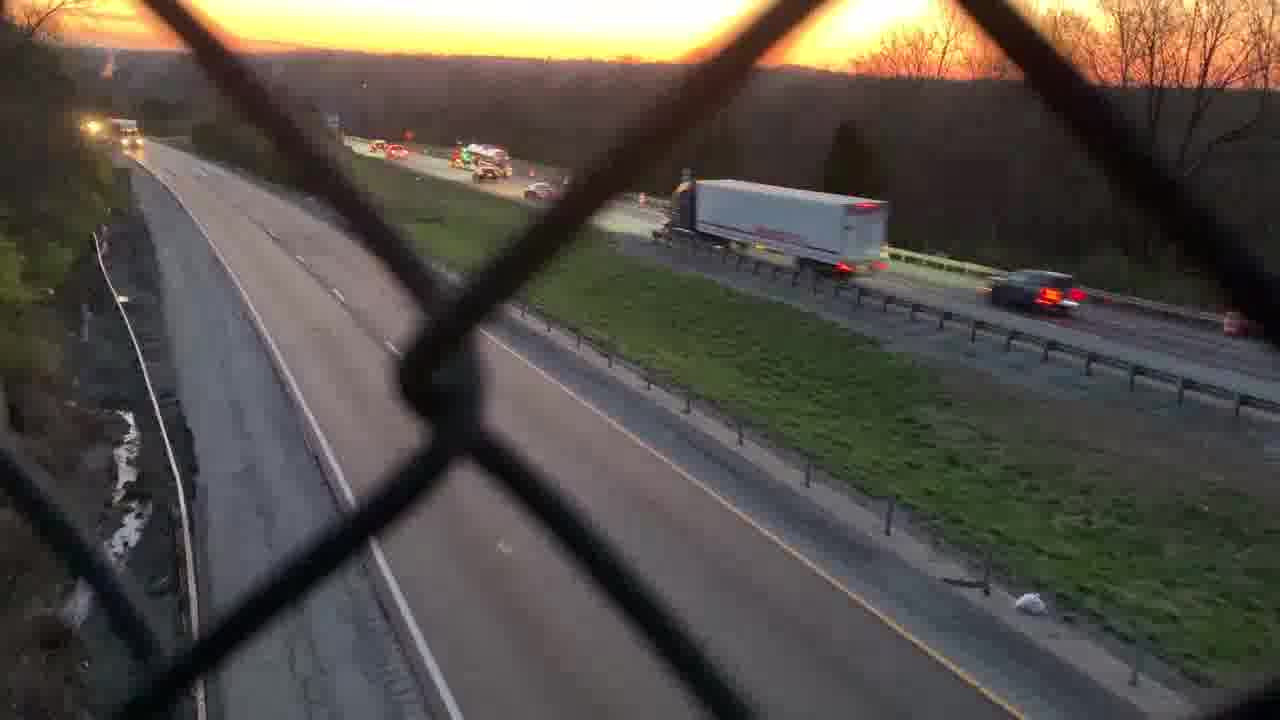heavyTruck: (662, 175, 897, 275)
largeCar: (981, 268, 1081, 317)
